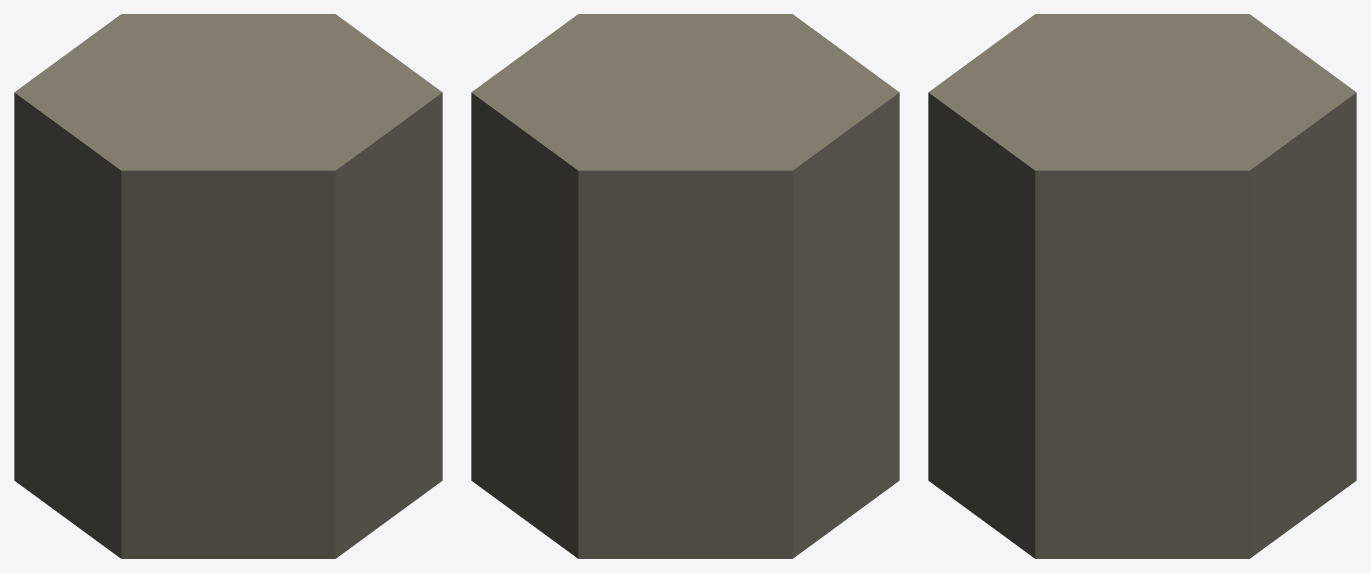
The model's file is sankthans_lantern.glb.
The picture shows the model from 3 angles, left to right: view 1: azimuth 30°, elevation 25°; view 2: azimuth 150°, elevation 25°; view 3: azimuth 270°, elevation 25°; orthographic projection.
Parts seen in each view (by area): view 1: sankthans_lantern; view 2: sankthans_lantern; view 3: sankthans_lantern.
Part boxes in pixels (x1,y1,x2,y2): sankthans_lantern: (14,14,442,558); sankthans_lantern: (471,14,899,558); sankthans_lantern: (928,14,1356,558).
Bounding box in the file's own units: 0.1905 × 0.22 × 0.22.
